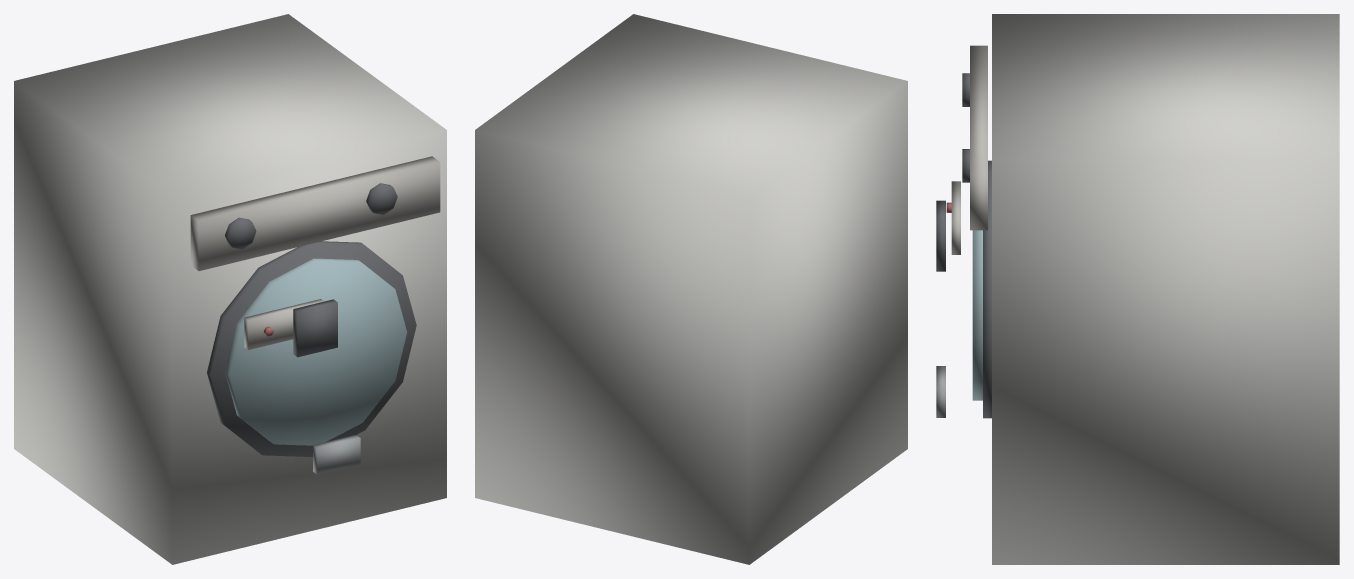
File: domestic_dryer__weathered.glb
3 views of the same model, side by side, from view 1: azimuth 30°, elevation 25°; view 2: azimuth 150°, elevation 25°; view 3: azimuth 270°, elevation 25° (orthographic). The views are drawn at different scales.
Visible parts, largest first — view 1: world; view 2: world; view 3: world.
Part boxes in pixels (box(x1,y1,x2,y2)): world: box(14, 14, 446, 564); world: box(475, 14, 907, 564); world: box(936, 14, 1339, 564).
Bounding box in the file's own units: 0.68 × 0.8712 × 0.7889.
